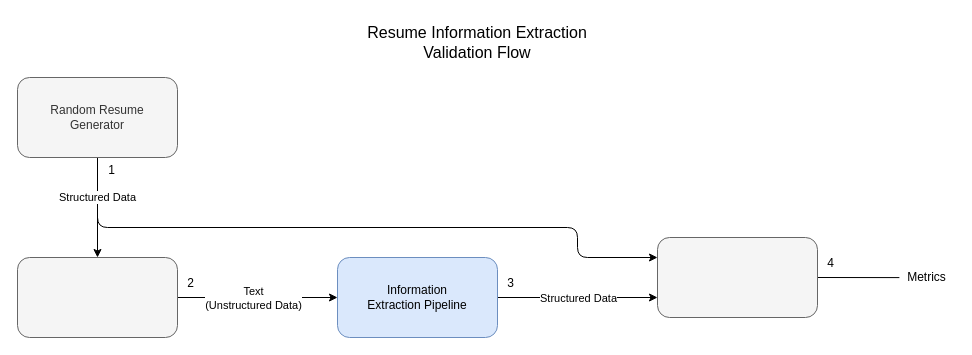
This 972x355 diagram has some shape labels left out. Here are the shapes that lost their labels. From the top down, the centre of each, then its label:
At point 97,297: "Random Sentences Generator".
At point 737,277: "Match Analyzer".
